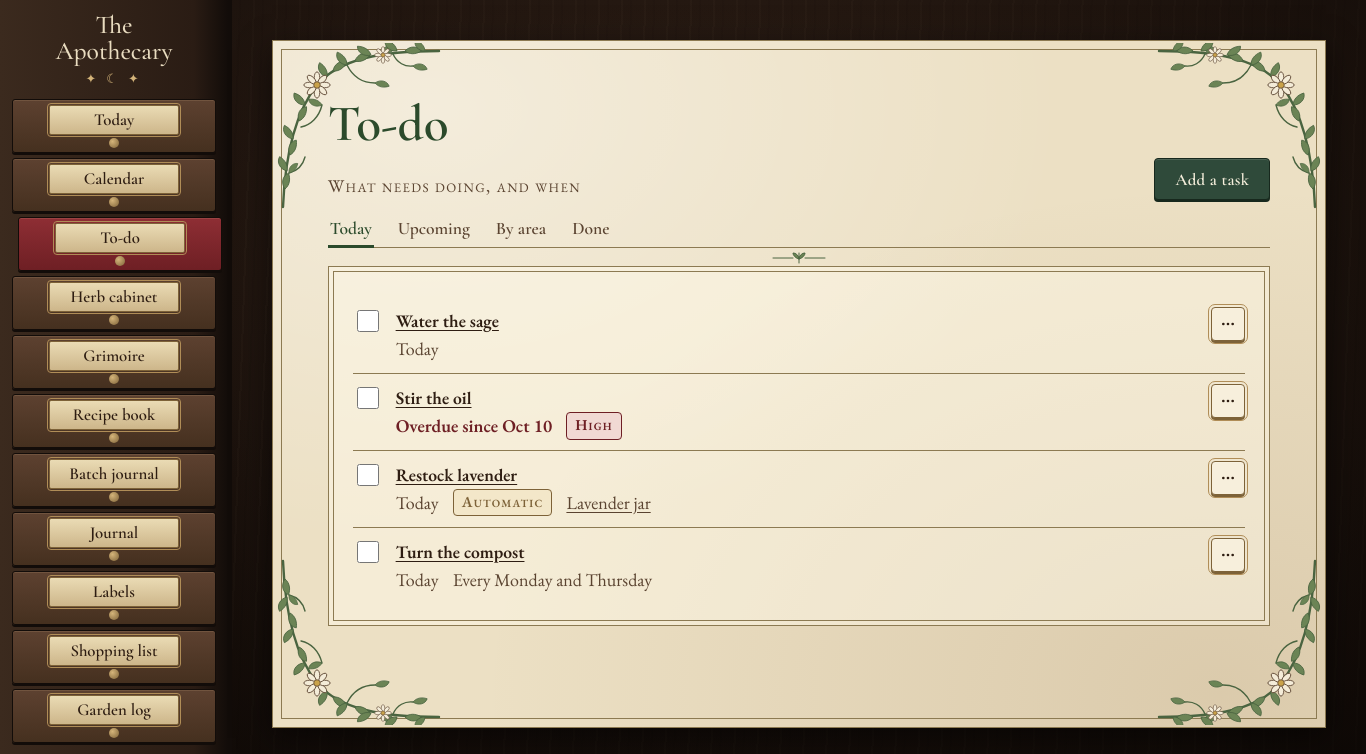
Test: keeps the tab in the URL
Expected: the link "Water the sage" is shown, [396, 309, 499, 332]
Click the link "Upcoming" at (434, 229), box [398, 218, 470, 239]
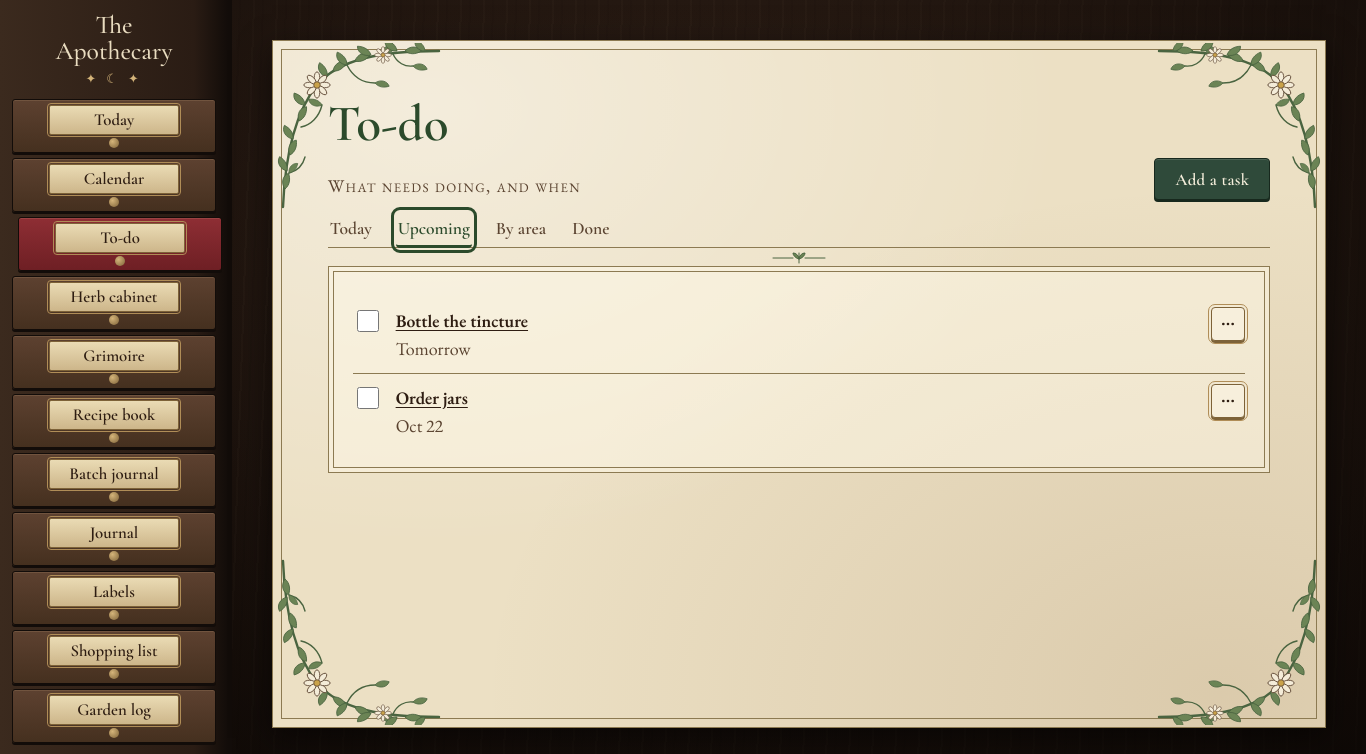
Now the link "Bottle the tincture" is shown, box [396, 309, 528, 332]
